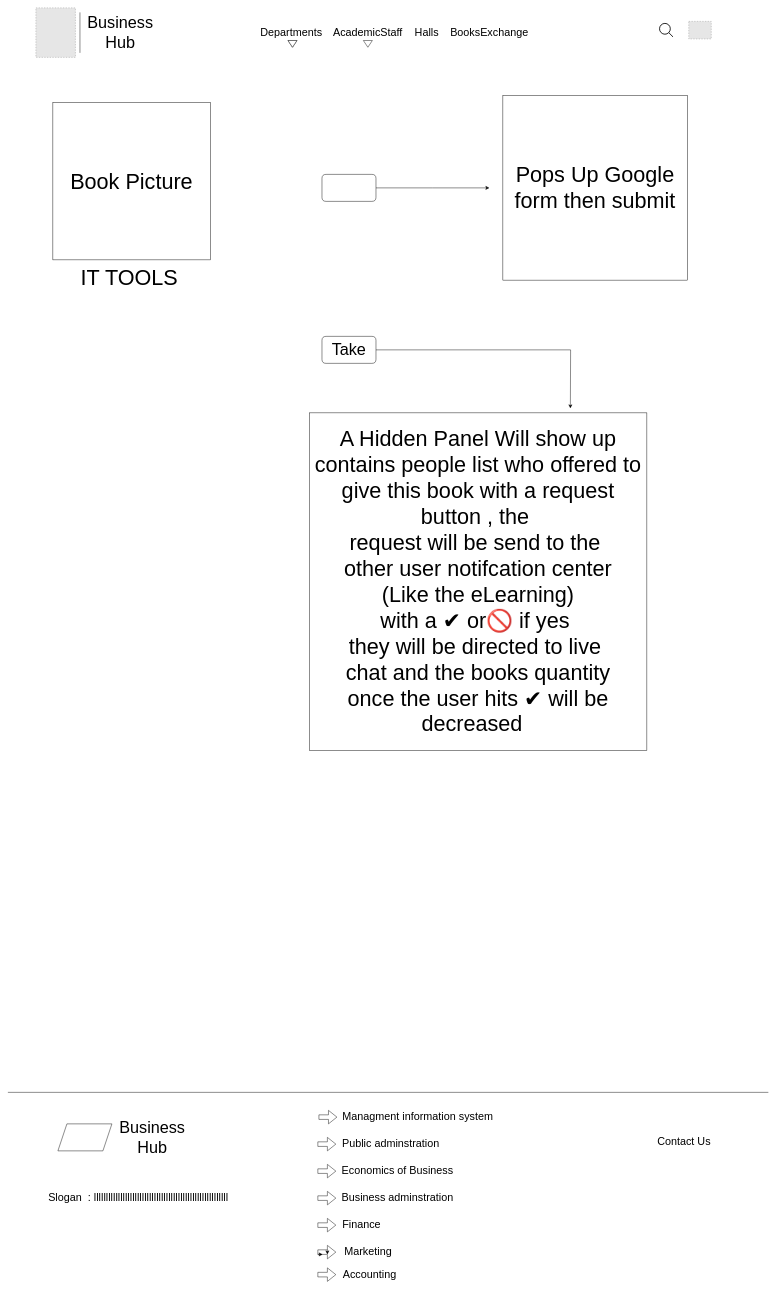
This 777x1294 diagram has some shape labels left out. Grey dashed boxes stand in for pictures. The shapes that lost their labels are listed below. From the top down, each one's centre as x and y in pixels, then its label:
pixel 349 187: Give
pixel 84 1137: Logo
